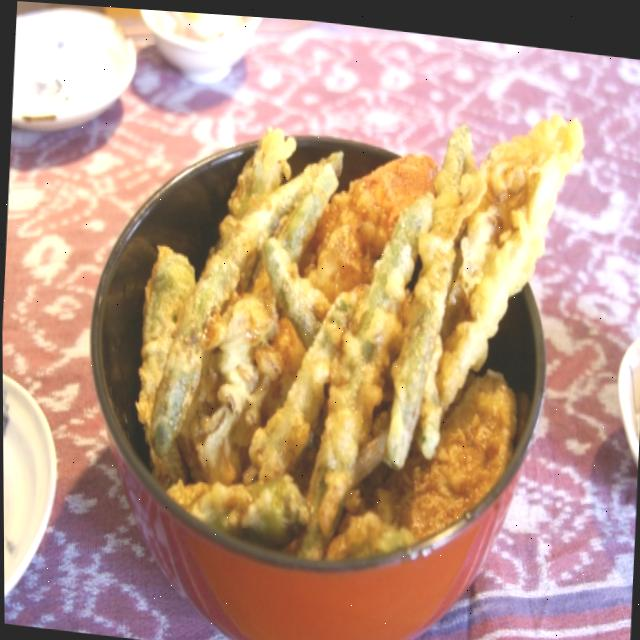蔬菜料理: (112, 16, 595, 550)
